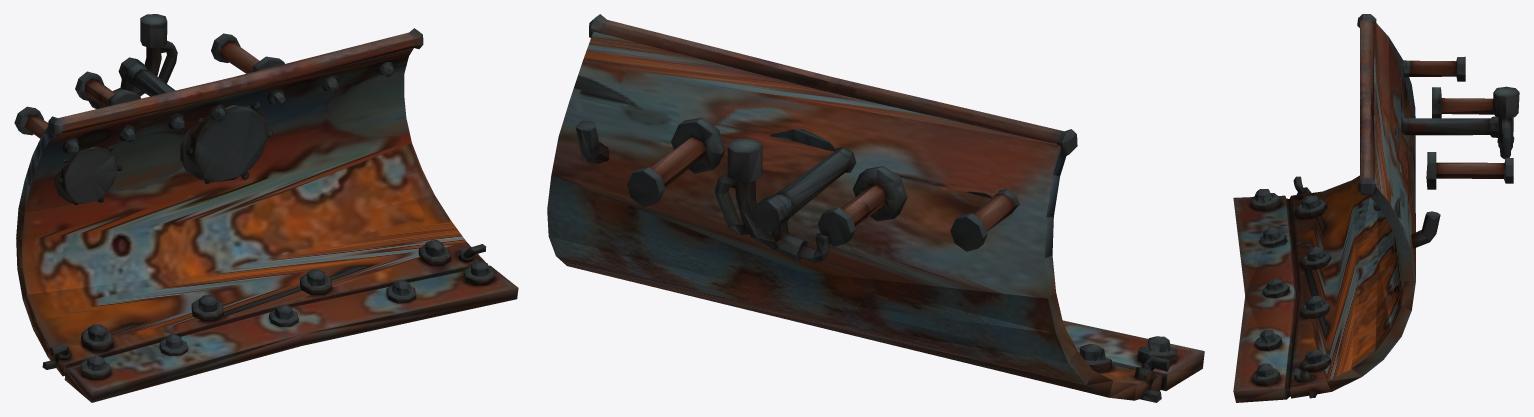
The model's file is nose_plow.glb.
3 renders of one model, left to right at view 1: azimuth 30°, elevation 25°; view 2: azimuth 150°, elevation 25°; view 3: azimuth 270°, elevation 25°, orthographic. The views are drawn at different scales.
Parts seen in each view (by area): view 1: tripo_node_2df5f4c4-9187-49c7-9310-b5a16e75285f; view 2: tripo_node_2df5f4c4-9187-49c7-9310-b5a16e75285f; view 3: tripo_node_2df5f4c4-9187-49c7-9310-b5a16e75285f.
Boxes of the visible parts, x1,y1,x2,y2 form: tripo_node_2df5f4c4-9187-49c7-9310-b5a16e75285f: (14,14,518,402); tripo_node_2df5f4c4-9187-49c7-9310-b5a16e75285f: (547,14,1204,402); tripo_node_2df5f4c4-9187-49c7-9310-b5a16e75285f: (1233,14,1519,402).
Size of the model in its own units: 0.9981 by 0.5013 by 0.614.
1 material, 1 textured.
